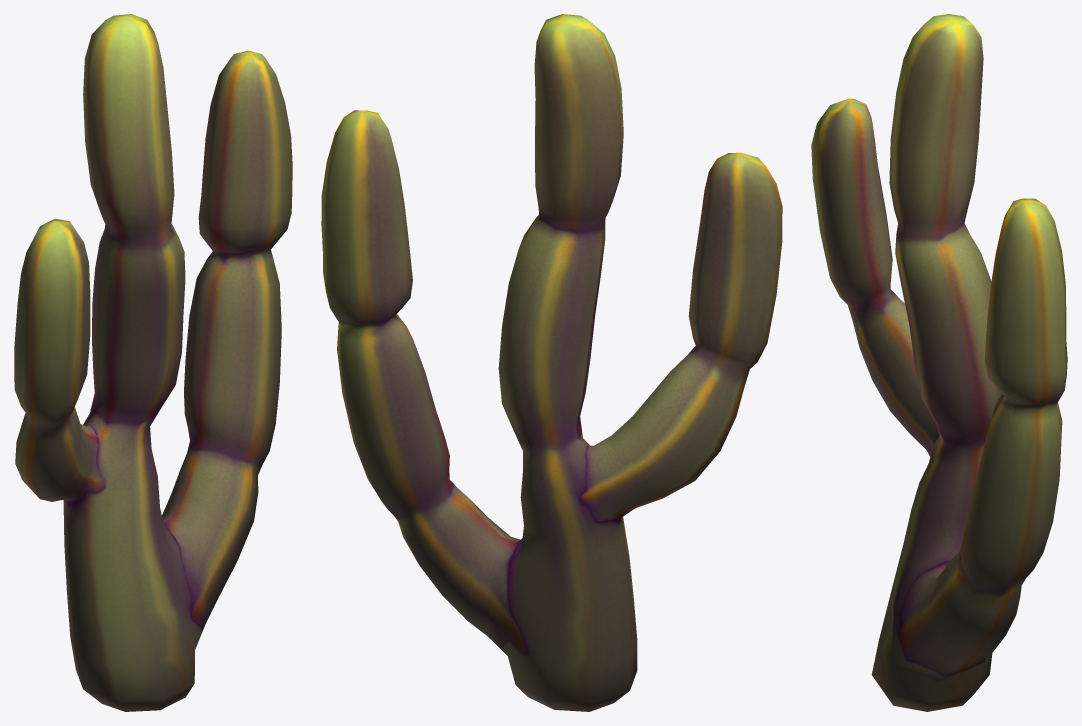
Rendered from mandacaru_3.fbx.
3 views of the same model, side by side, from view 1: azimuth 30°, elevation 25°; view 2: azimuth 150°, elevation 25°; view 3: azimuth 270°, elevation 25° (orthographic). The views are drawn at different scales.
Parts seen in each view (by area): view 1: Cube.002; view 2: Cube.002; view 3: Cube.002.
Boxes of the visible parts, bbox=[...] form: Cube.002: bbox=[14, 14, 292, 711]; Cube.002: bbox=[321, 14, 782, 711]; Cube.002: bbox=[811, 14, 1067, 711].
Size of the model in its own units: 514 by 950 by 324.
